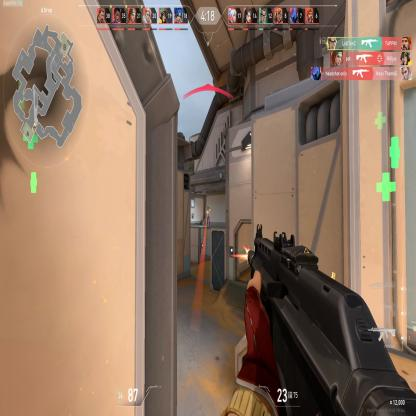enemy: (205, 206, 210, 227)
